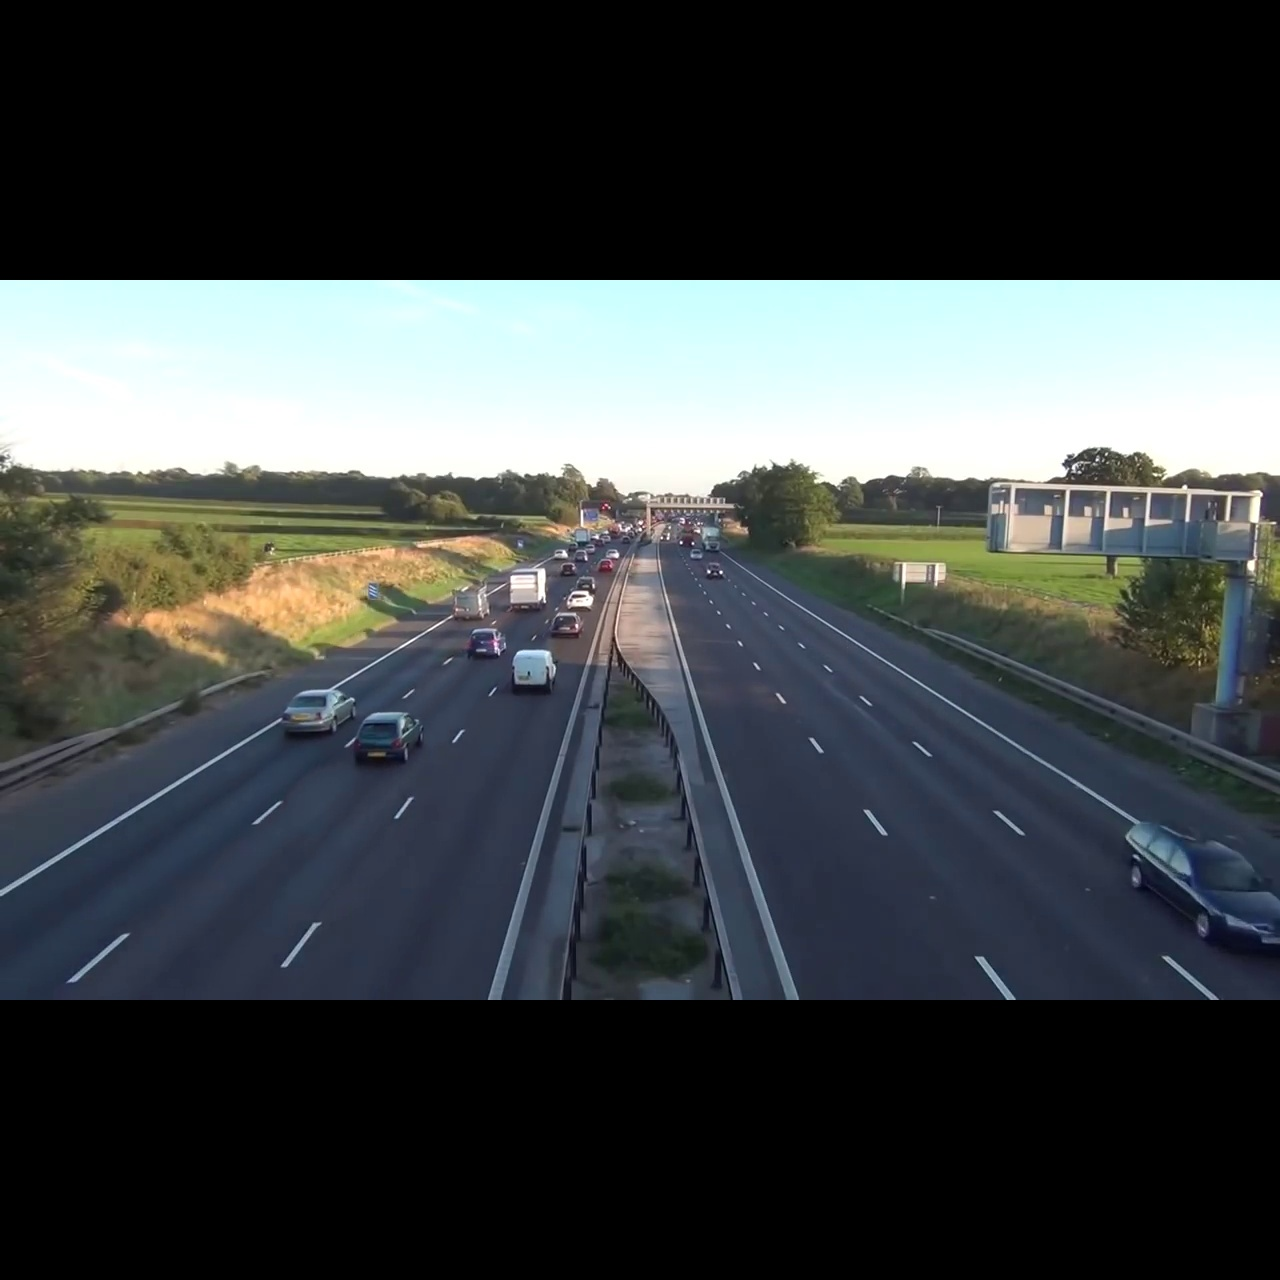vehicle: (1119, 809, 1280, 949), (353, 706, 431, 770), (275, 681, 358, 737), (511, 645, 560, 697), (508, 564, 551, 614), (452, 581, 493, 622), (467, 625, 508, 660), (547, 608, 584, 639), (565, 588, 595, 611), (704, 561, 724, 580), (576, 576, 597, 591), (560, 561, 578, 578), (597, 558, 613, 572), (689, 549, 704, 561)
